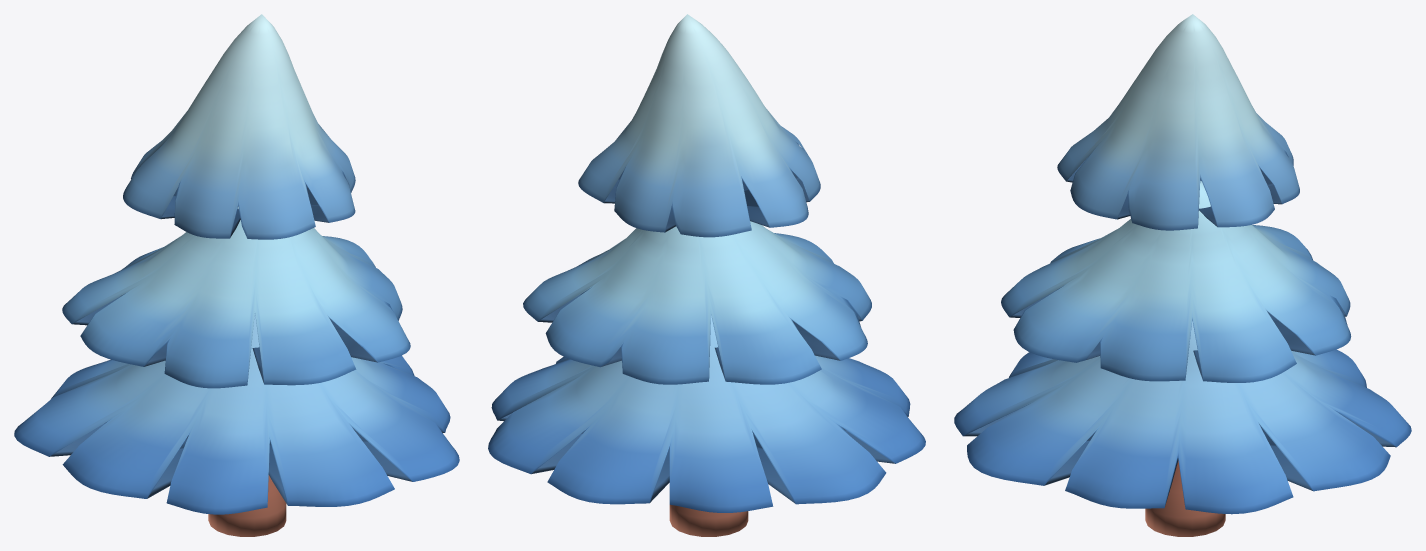
Rendered from bank_pine_2.glb.
The picture shows the model from 3 angles, left to right: view 1: azimuth 30°, elevation 25°; view 2: azimuth 150°, elevation 25°; view 3: azimuth 270°, elevation 25°; orthographic projection. The views are drawn at different scales.
Parts seen in each view (by area): view 1: bank_pine_2; view 2: bank_pine_2; view 3: bank_pine_2.
Part boxes in pixels (<box>): bank_pine_2: <box>14,14,459,536</box>; bank_pine_2: <box>488,14,925,536</box>; bank_pine_2: <box>954,14,1411,536</box>.
Size of the model in its own units: 2.35 by 2.97 by 2.39.
3 materials, 3 textured.
